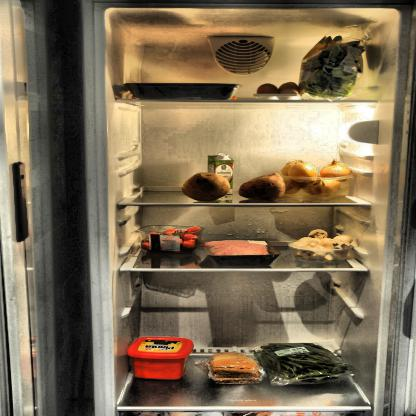butter: (128, 336, 193, 380)
eggs: (254, 80, 300, 100)
green_beans: (263, 340, 352, 387)
ground_beef: (207, 239, 272, 262)
heavy_cream: (208, 152, 233, 196)
mushrooms: (289, 229, 353, 262)
onion: (279, 159, 352, 200)
spinach: (297, 31, 370, 104)
strawberries: (139, 226, 201, 253)
sweet_potato: (180, 171, 235, 200), (238, 171, 288, 201)
